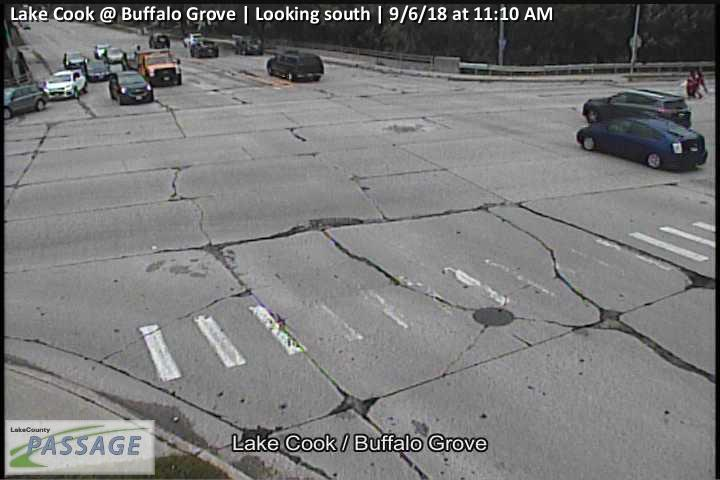SUV: (583, 89, 691, 131), (268, 50, 323, 82), (3, 83, 48, 119), (110, 70, 153, 104), (44, 70, 88, 99), (232, 32, 262, 56), (63, 50, 84, 69), (150, 32, 170, 49), (184, 31, 202, 48)
Sedan: (577, 117, 708, 171), (128, 47, 182, 85), (190, 40, 218, 58), (87, 60, 109, 82), (105, 47, 126, 63), (95, 44, 111, 58)
